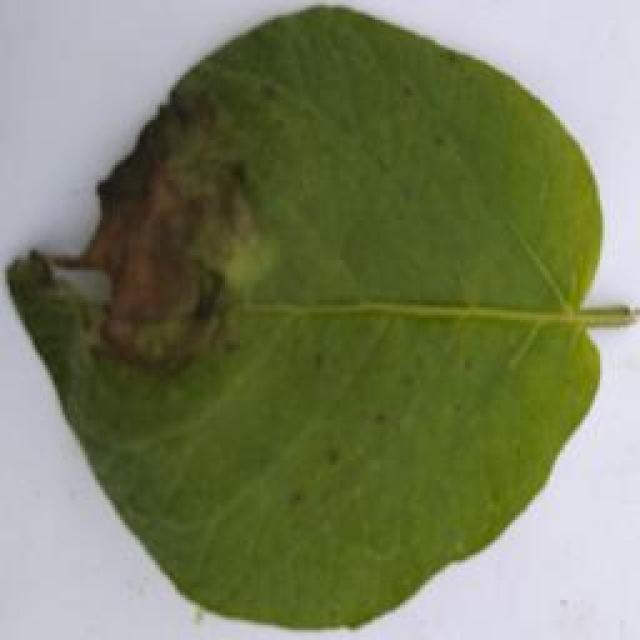Potato_Late_Blight: (8, 7, 610, 630)
